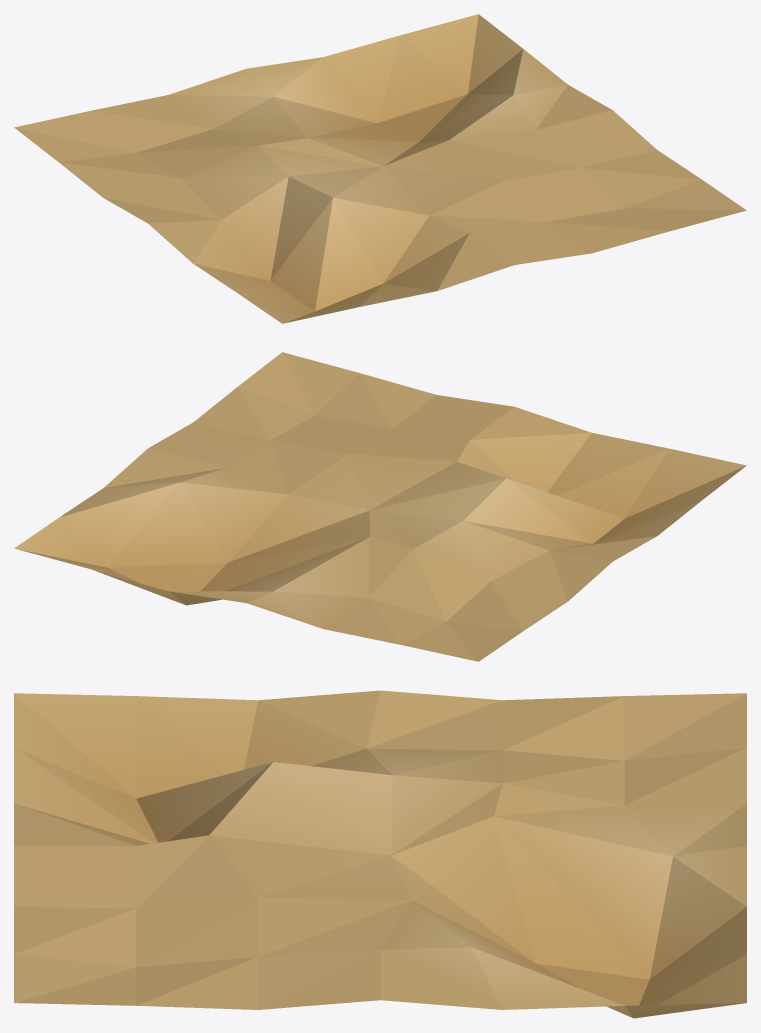
File: Mixed_Ground_10.fbx
3 renders of one model, top to bottom at view 1: azimuth 30°, elevation 25°; view 2: azimuth 150°, elevation 25°; view 3: azimuth 270°, elevation 25°, orthographic. The views are drawn at different scales.
Visible parts, largest first — view 1: Ground_10.001; view 2: Ground_10.001; view 3: Ground_10.001.
Boxes of the visible parts, x1,y1,x2,y2 form: Ground_10.001: (14, 14, 746, 323); Ground_10.001: (14, 352, 746, 661); Ground_10.001: (14, 690, 746, 1018).
Bounding box in the file's own units: 1000 × 145 × 1000.
